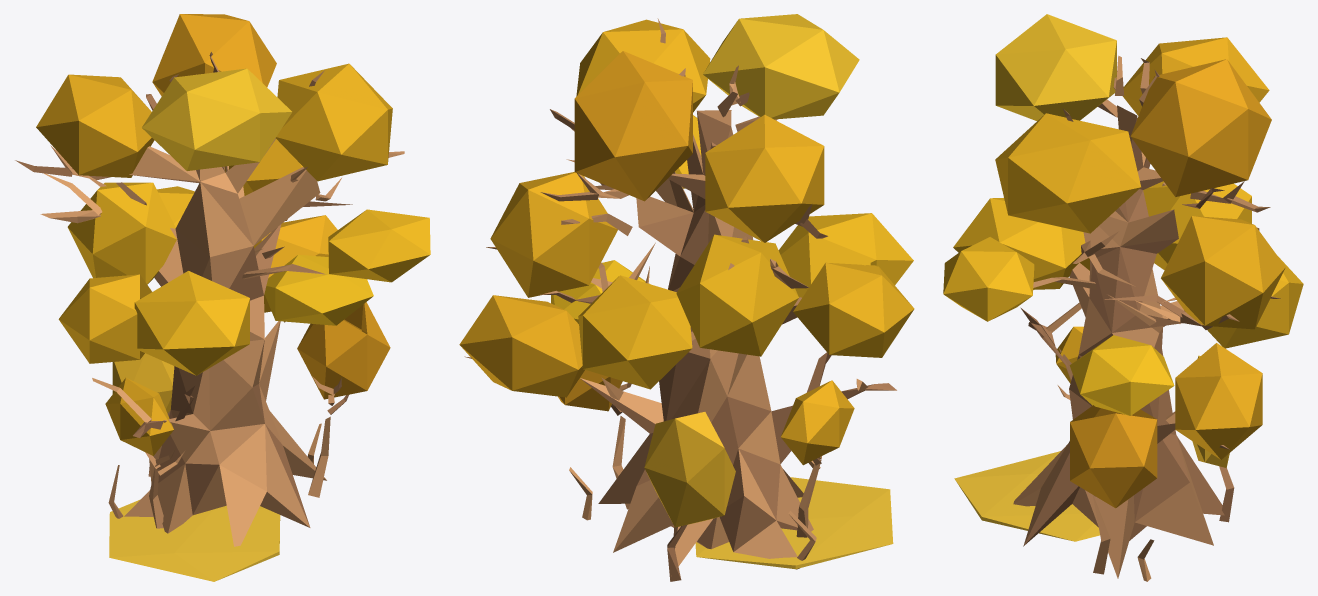
Rendered from giant_ginkgo_bloom_far.glb.
The picture shows the model from 3 angles, left to right: view 1: azimuth 30°, elevation 25°; view 2: azimuth 150°, elevation 25°; view 3: azimuth 270°, elevation 25°; orthographic projection. The views are drawn at different scales.
Parts seen in each view (by area): view 1: giant_ginkgo_bloom_far; view 2: giant_ginkgo_bloom_far; view 3: giant_ginkgo_bloom_far.
Boxes of the visible parts, x1=… form: giant_ginkgo_bloom_far: x1=15, y1=14, x2=430, y2=581; giant_ginkgo_bloom_far: x1=459, y1=14, x2=914, y2=581; giant_ginkgo_bloom_far: x1=943, y1=14, x2=1303, y2=581.
Size of the model in its own units: 23.4 by 30.54 by 20.71.
